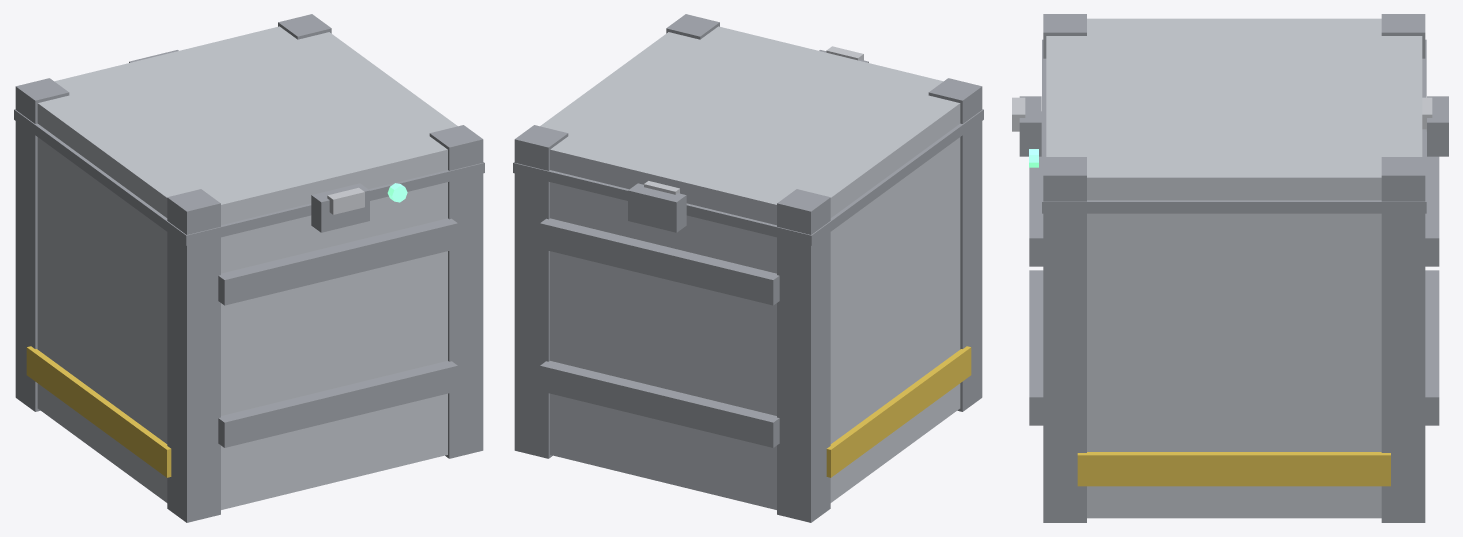
File: prop_crate.glb
3 renders of one model, left to right at view 1: azimuth 30°, elevation 25°; view 2: azimuth 150°, elevation 25°; view 3: azimuth 270°, elevation 25°, orthographic. The views are drawn at different scales.
Parts seen in each view (by area): view 1: prop_crate; view 2: prop_crate; view 3: prop_crate.
Part boxes in pixels (box(x1,y1,x2,y2)): prop_crate: box(14, 14, 484, 522); prop_crate: box(513, 14, 983, 522); prop_crate: box(1012, 14, 1448, 522).
Bounding box in the file's own units: 0.628 × 0.612 × 0.6973.
